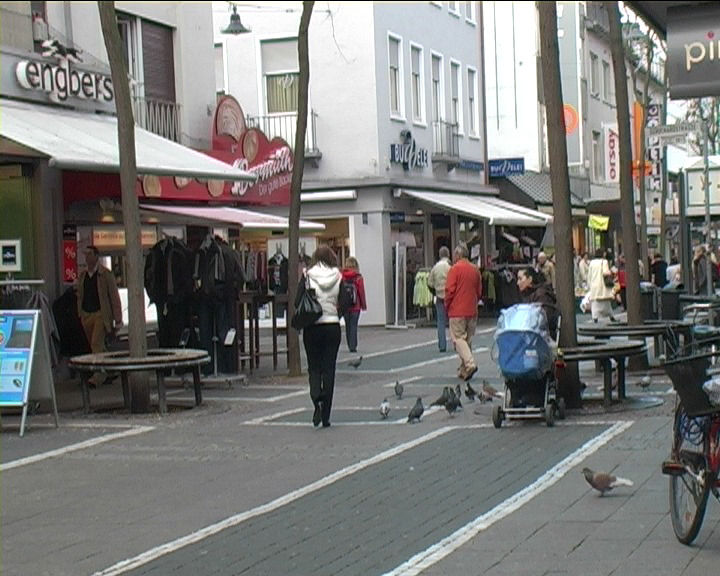undeflect: (296, 246, 355, 300)
